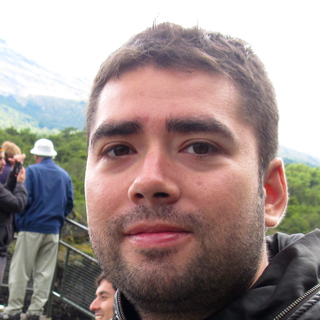eye: (175, 138, 228, 162), (97, 138, 140, 163)
